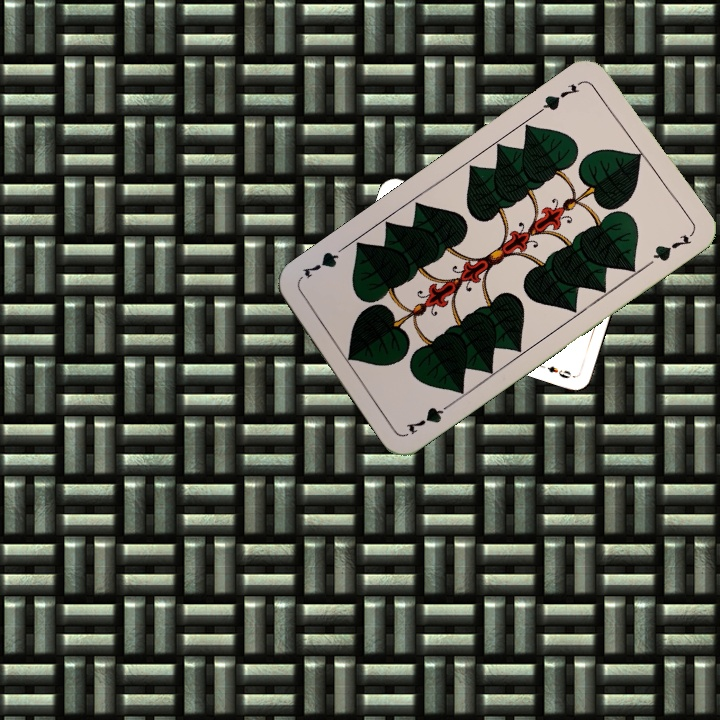G7: (402, 397, 456, 438), (534, 76, 586, 116)
